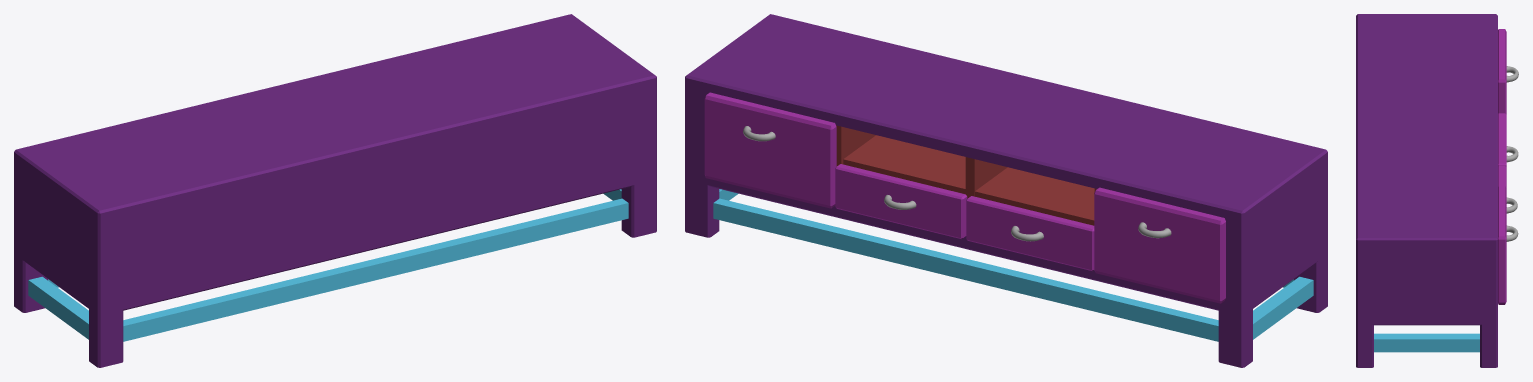
Rendered from Mesa de Sala de Estar.fbx.
The picture shows the model from 3 angles, left to right: view 1: azimuth 30°, elevation 25°; view 2: azimuth 150°, elevation 25°; view 3: azimuth 270°, elevation 25°; orthographic projection. The views are drawn at different scales.
Parts seen in each view (by area): view 1: Mesa_de_Sala_de_Estar; view 2: Mesa_de_Sala_de_Estar; view 3: Mesa_de_Sala_de_Estar.
Part boxes in pixels (x1,y1,x2,y2): Mesa_de_Sala_de_Estar: (14,14,656,367); Mesa_de_Sala_de_Estar: (685,14,1327,367); Mesa_de_Sala_de_Estar: (1356,14,1518,367).
Bounding box in the file's own units: 150 × 40.08 × 45.73.
